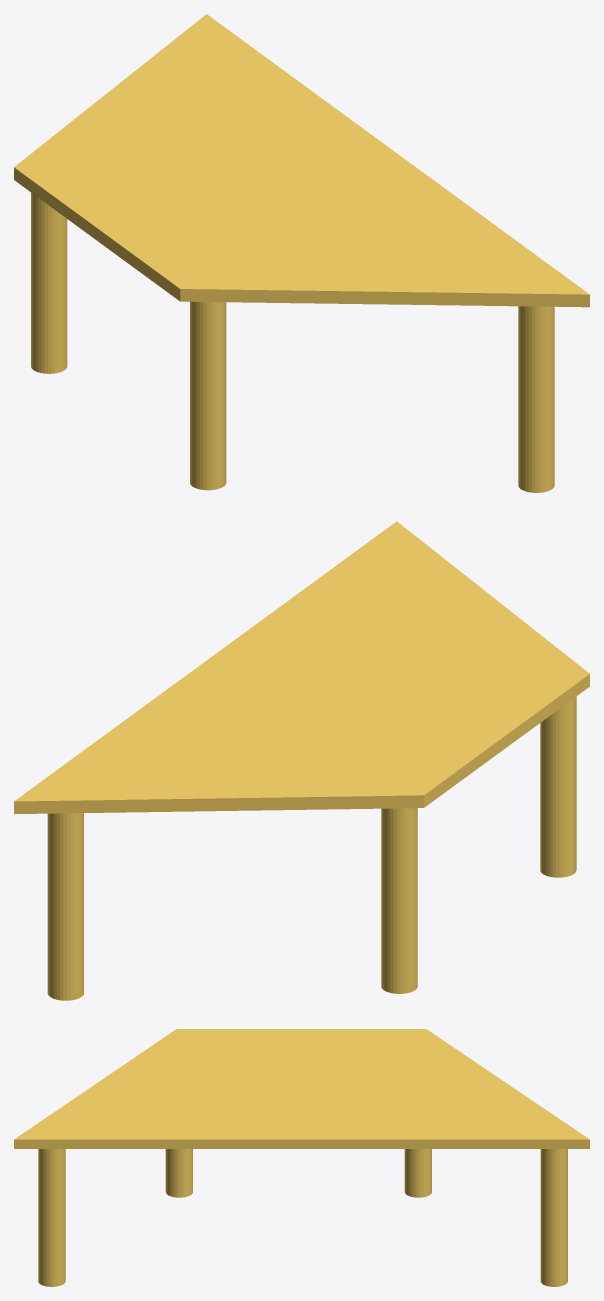
The model's file is mesatriangular.dae.
3 views of the same model, one above another, from view 1: azimuth 30°, elevation 25°; view 2: azimuth 150°, elevation 25°; view 3: azimuth 270°, elevation 25° (orthographic). The views are drawn at different scales.
Parts seen in each view (by area): view 1: Cylinder; view 2: Cylinder; view 3: Cylinder.
Boxes of the visible parts, box(x1,y1,x2,y2) form: Cylinder: box(14, 14, 589, 492); Cylinder: box(14, 521, 589, 1000); Cylinder: box(14, 1029, 589, 1286).
Size of the model in its own units: 0.4865 by 1.07 by 0.3119.
